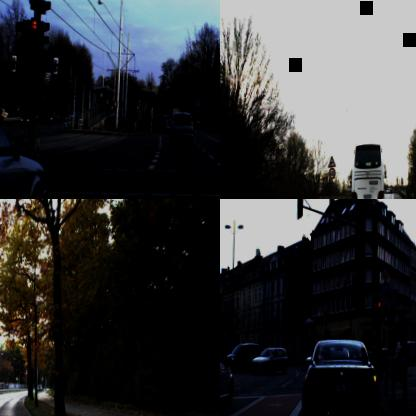bend: (328, 154, 336, 168)
go right or straight: (380, 280, 391, 298)
priority road: (380, 267, 390, 282)
speed limit 60: (328, 166, 336, 178)
